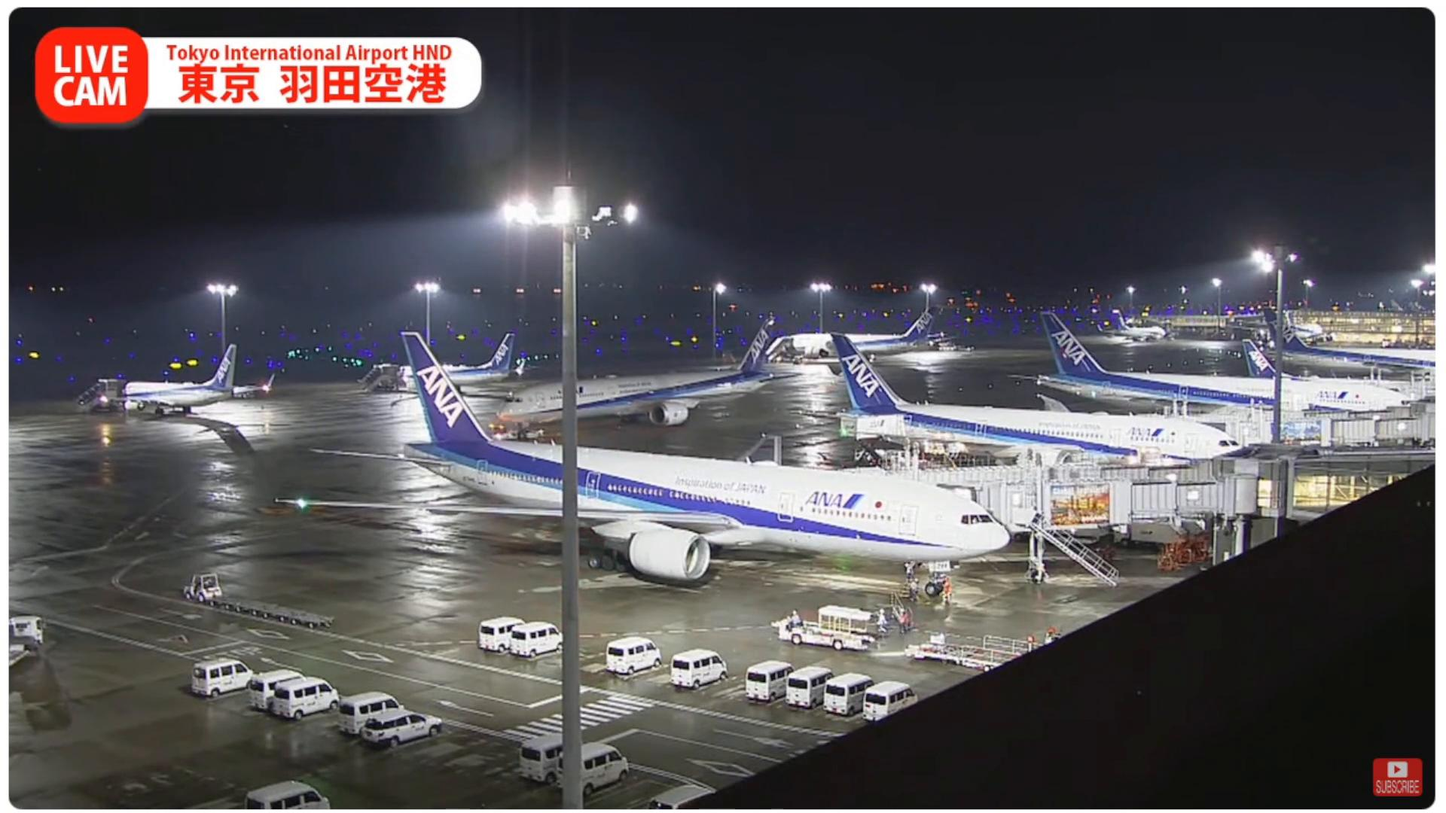Aerobridge: (985, 471, 1284, 539), (899, 458, 1292, 499)
Airplane: (265, 341, 1017, 589)
Dolly: (221, 581, 346, 644)
JCPL: (896, 634, 1019, 678), (943, 630, 1053, 658)
Skyloader: (764, 589, 897, 663)
Tractor: (172, 560, 235, 611)
Window: (1286, 461, 1434, 519)
